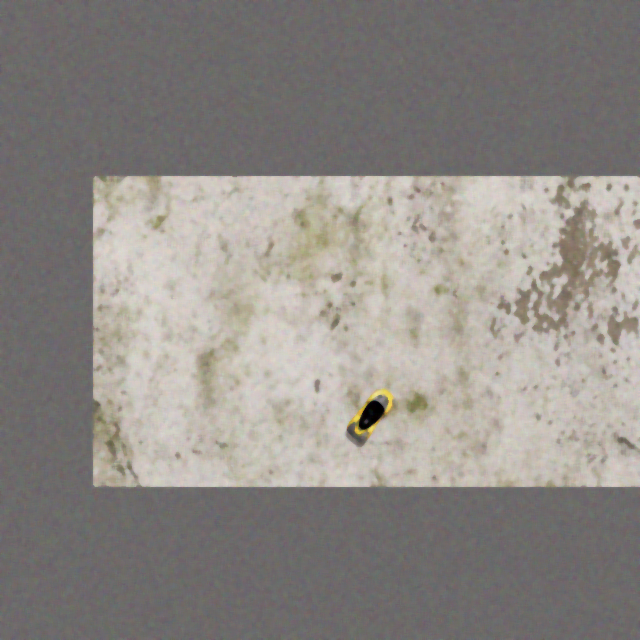car: (343, 383, 400, 447)
